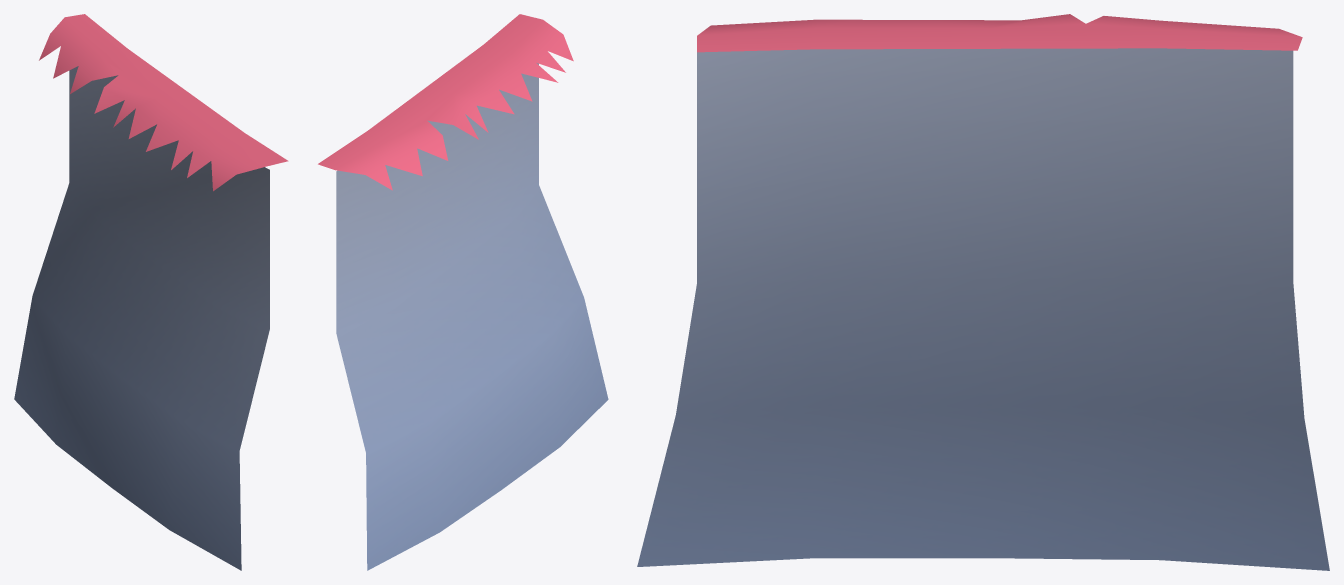
The model's file is mdl_cliffLine.fbx.
3 renders of one model, left to right at view 1: azimuth 30°, elevation 25°; view 2: azimuth 150°, elevation 25°; view 3: azimuth 270°, elevation 25°, orthographic. The views are drawn at different scales.
Parts seen in each view (by area): view 1: mdl_cliff_line; view 2: mdl_cliff_line; view 3: mdl_cliff_line.
Part boxes in pixels (x1,y1,x2,y2): mdl_cliff_line: (14, 14, 288, 570); mdl_cliff_line: (318, 14, 608, 570); mdl_cliff_line: (637, 14, 1329, 570).
Bounding box in the file's own units: 1.03 × 4.67 × 5.2.
